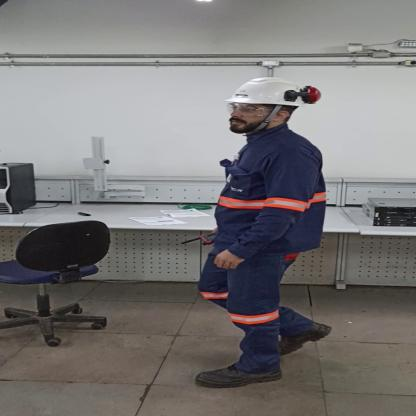Capacete: (222, 76, 324, 107)
